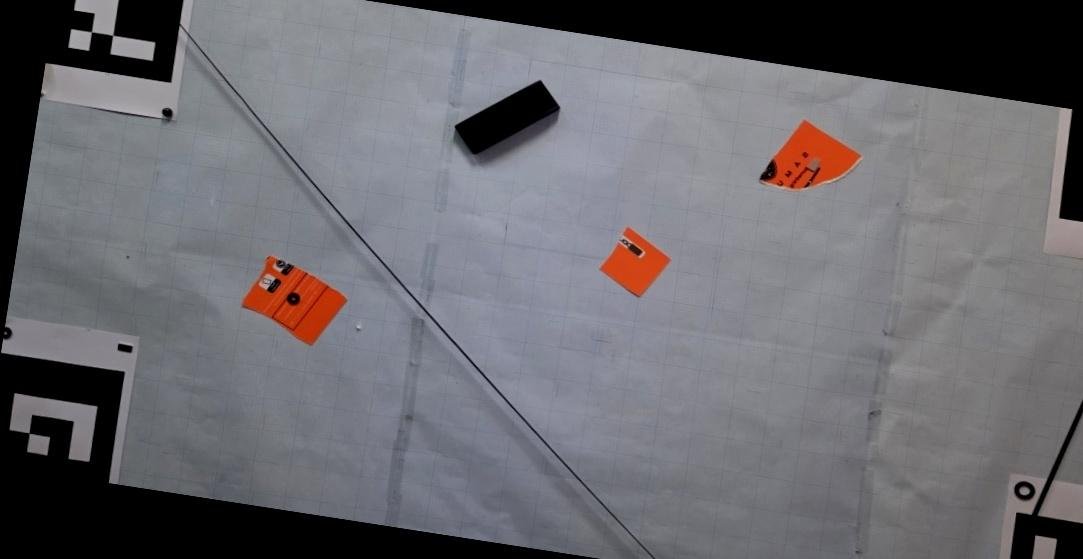obstacle: (241, 257, 346, 346), (454, 80, 560, 156), (757, 118, 863, 191), (599, 227, 670, 299)
